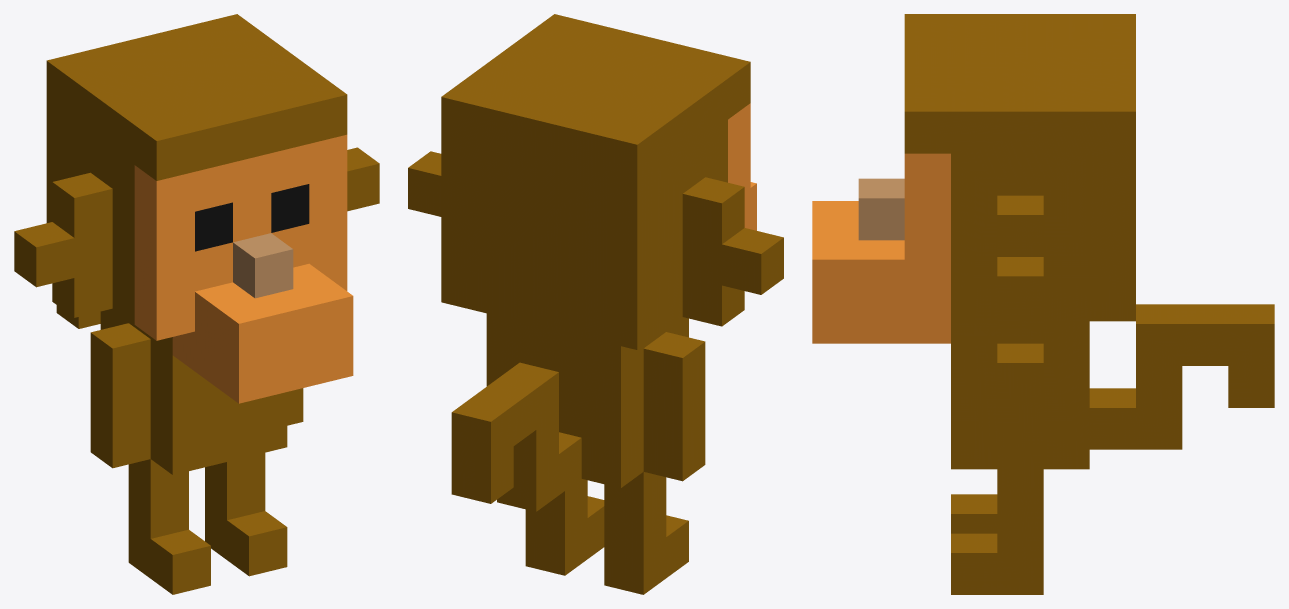
File: monkey.glb
3 views of the same model, side by side, from view 1: azimuth 30°, elevation 25°; view 2: azimuth 150°, elevation 25°; view 3: azimuth 270°, elevation 25° (orthographic). The views are drawn at different scales.
Parts seen in each view (by area): view 1: Node; view 2: Node; view 3: Node.
Boxes of the visible parts, x1,y1,x2,y2 form: Node: (14,14,379,594); Node: (408,14,783,594); Node: (812,14,1274,594).
Size of the model in its own units: 0.9 by 1.2 by 1.
1 material, 1 textured.
